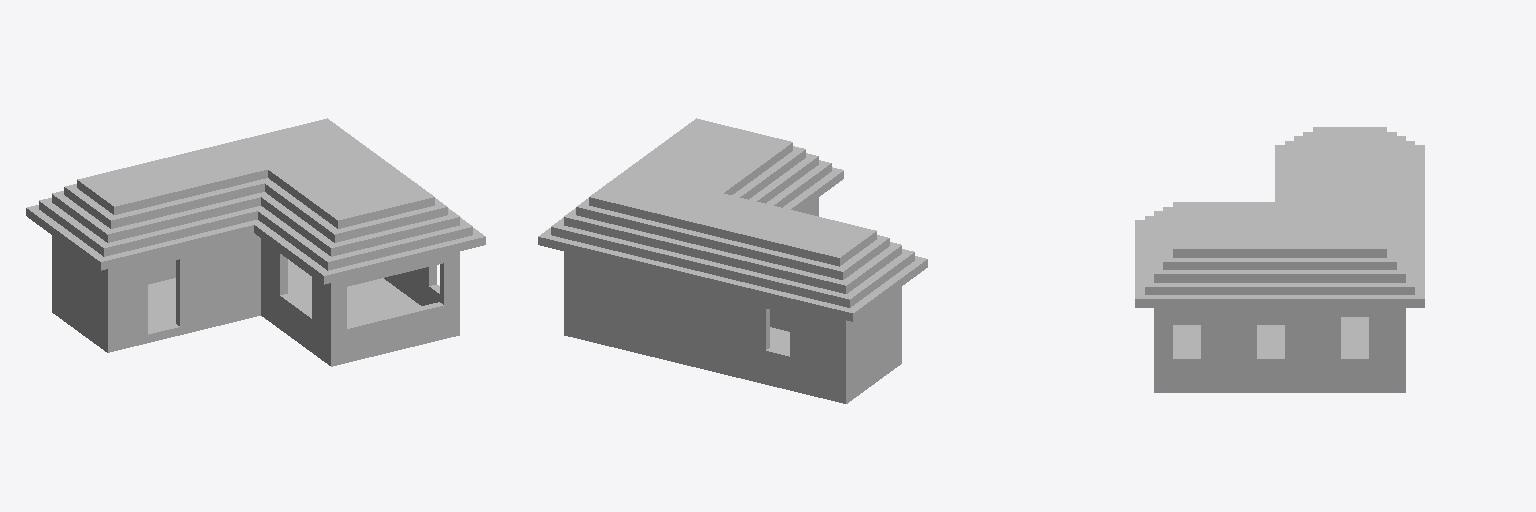
File: house1.obj
3 views of the same model, side by side, from view 1: azimuth 30°, elevation 25°; view 2: azimuth 150°, elevation 25°; view 3: azimuth 270°, elevation 25° (orthographic).
Parts seen in each view (by area): view 1: object 1; view 2: object 1; view 3: object 1.
Boxes of the visible parts, <box> form: object 1: <box>26,118,485,366</box>; object 1: <box>538,118,927,403</box>; object 1: <box>1135,127,1424,392</box>.
Bounding box in the file's own units: 3.9 × 1.6 × 3.1.